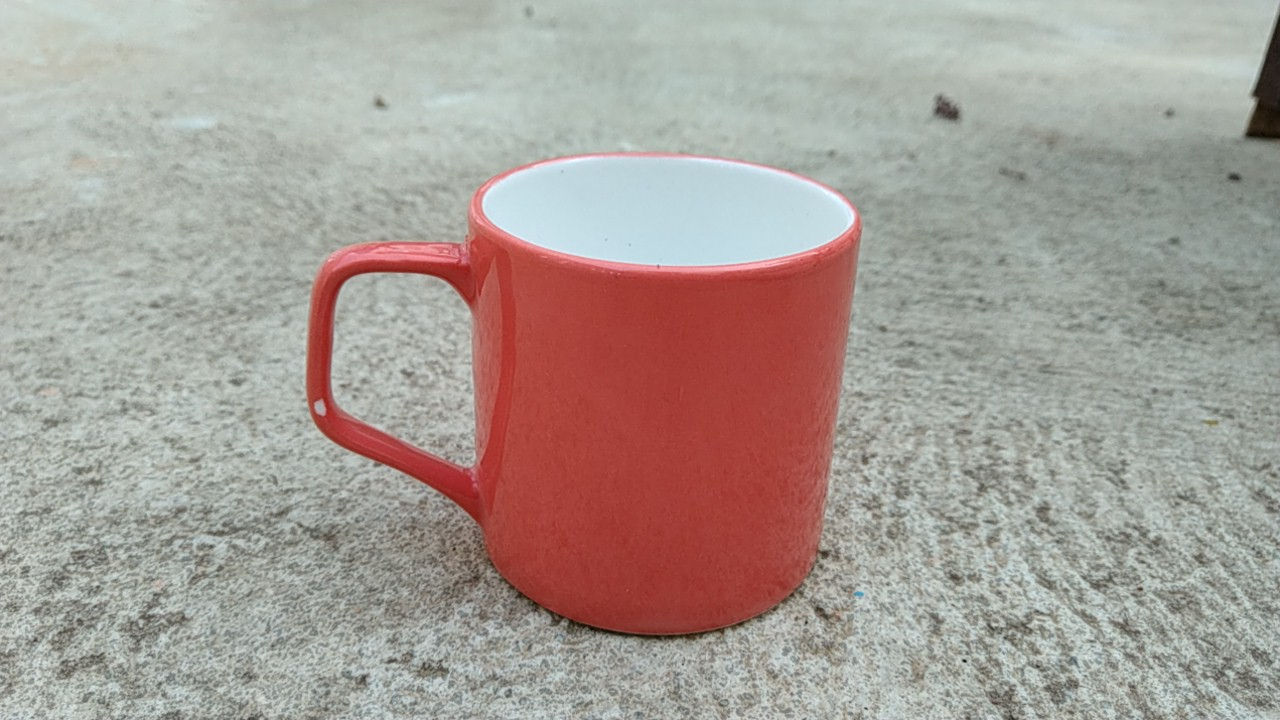cup: (300, 143, 875, 646)
